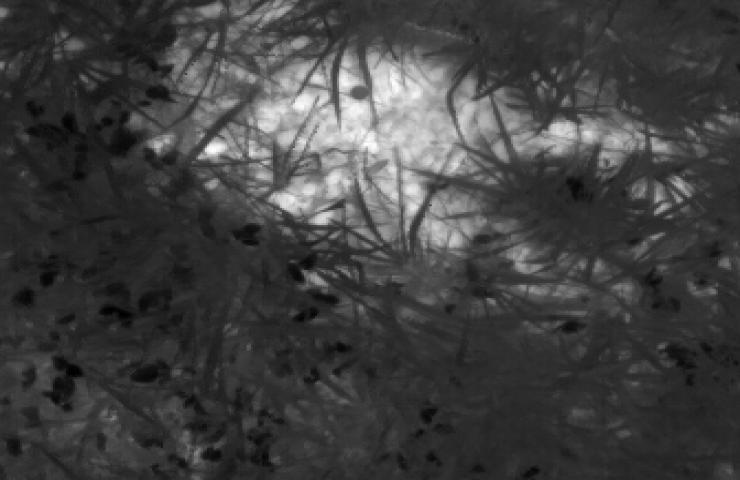landmines: (146, 1, 532, 256)
